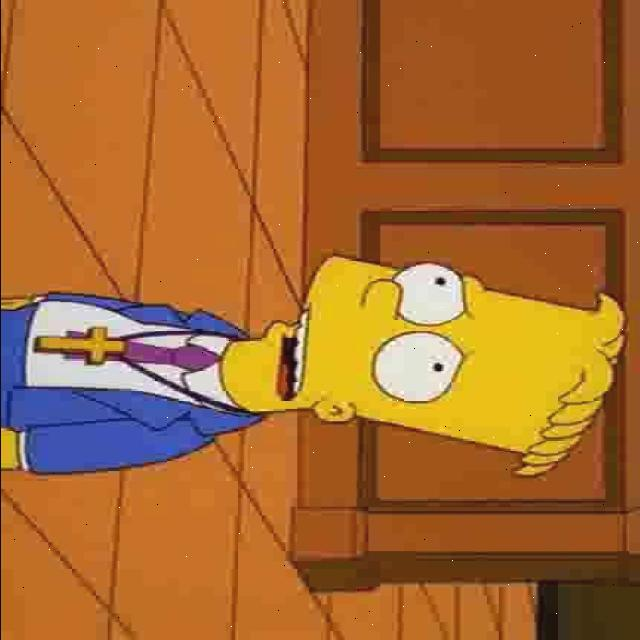Bart Simpson: (211, 253, 625, 483)
